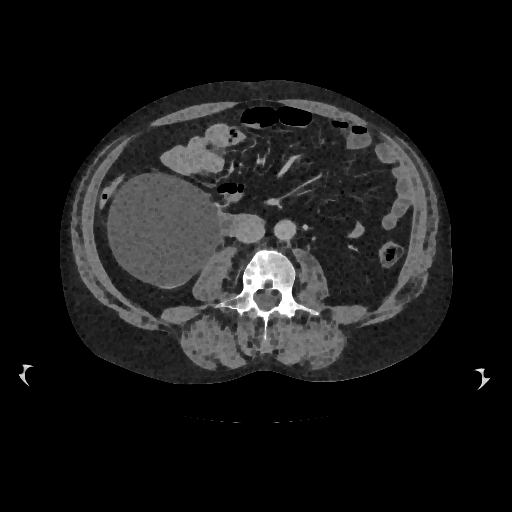Lesion: (108, 170, 221, 283)
